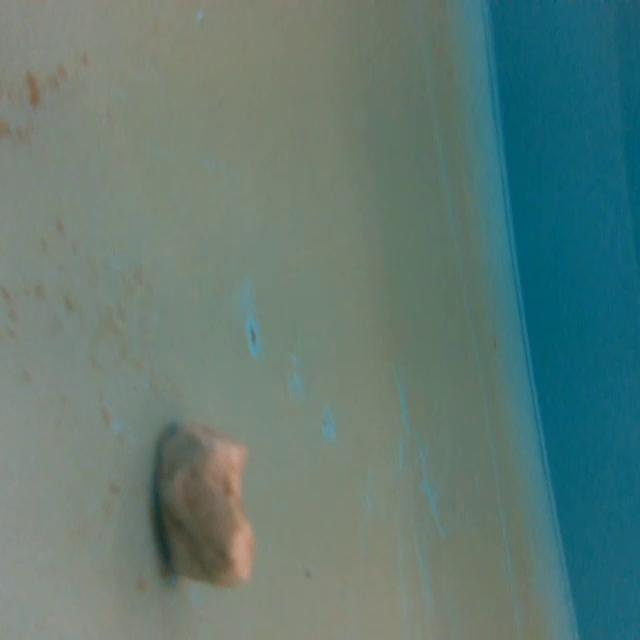rock: (152, 416, 260, 588)
